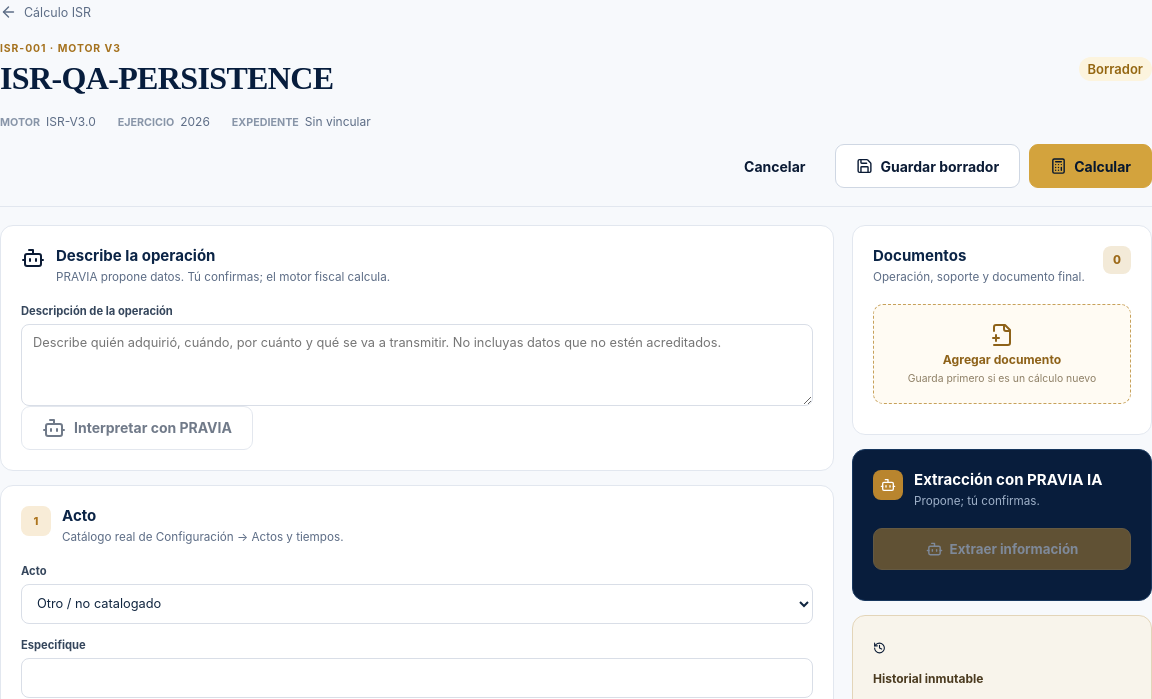
ISR · save/requery response real sin relaciones › Calcular espera guardar/reconsultar y después recarga el resultado
The width and height of the screenshot is (1152, 699).
Expected: the heading "ISR-QA-PERSISTENCE" is shown, x1=0 y1=60 x2=334 y2=97
Click the button "Calcular": [1091, 166] box x1=1029 y1=144 x2=1151 y2=188
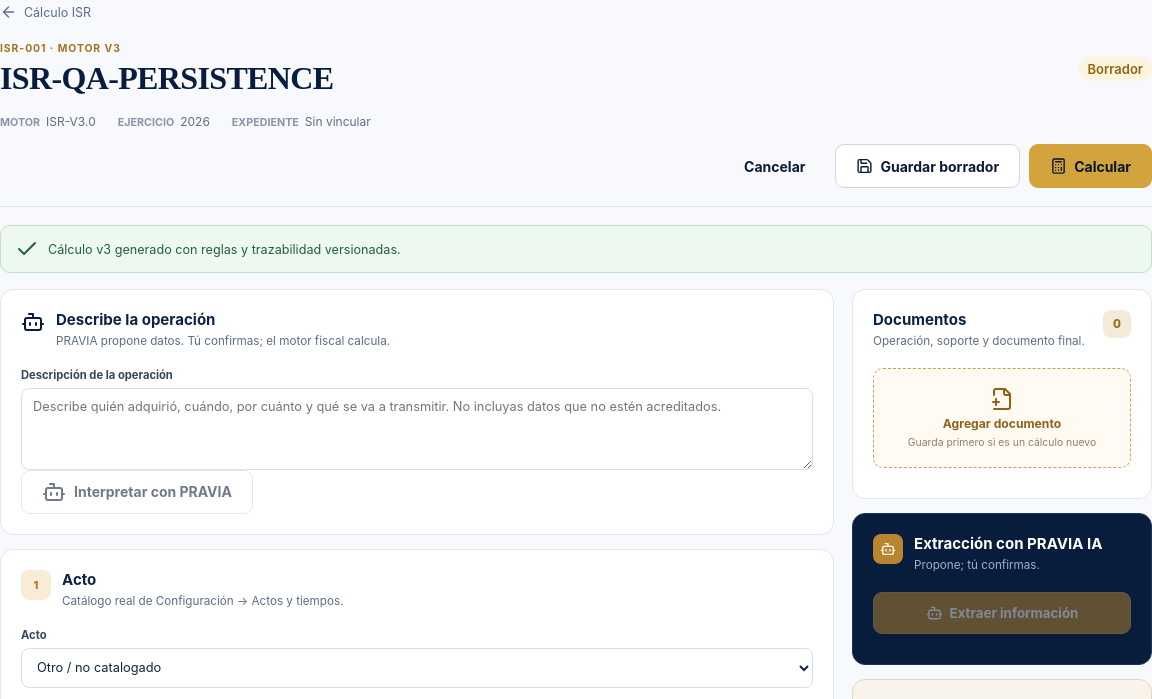
Expected: the text "Cálculo v3 generado con reglas y trazabilidad versionadas." is shown, x1=0 y1=225 x2=1151 y2=273
